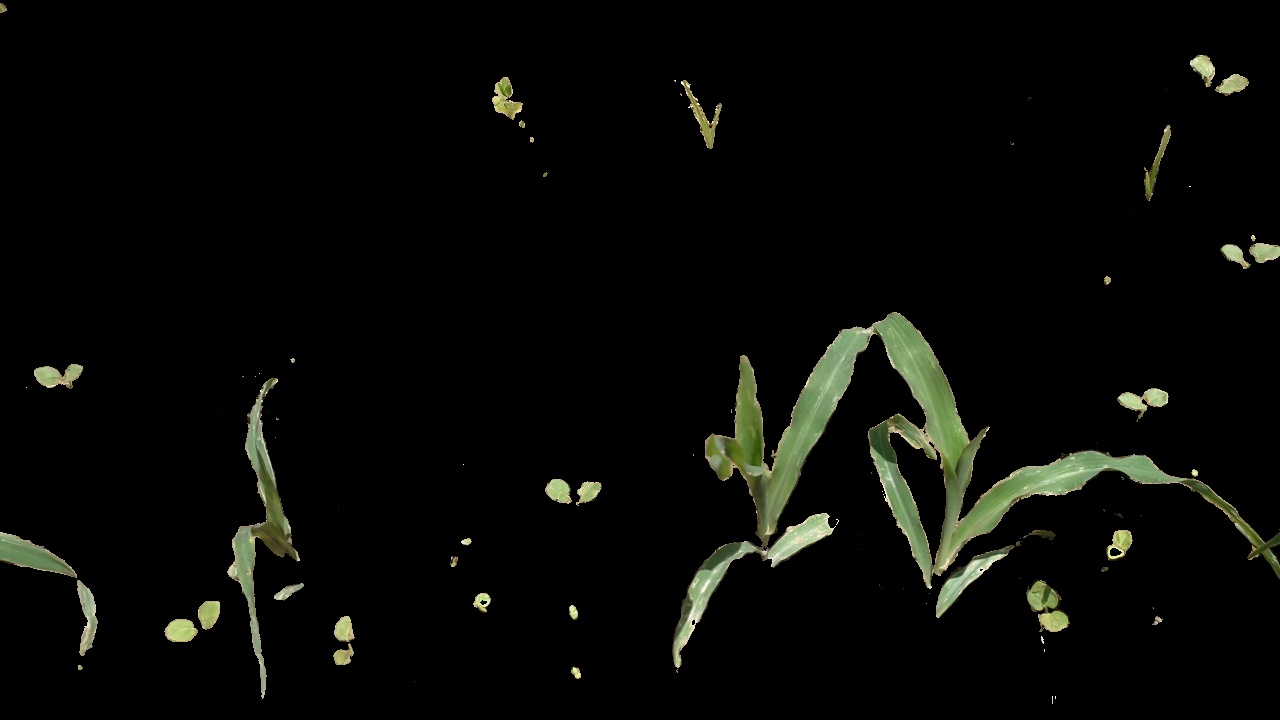crop: (872, 314, 1270, 659), (667, 307, 856, 681), (222, 353, 306, 692)
weed: (1117, 124, 1180, 213), (670, 68, 731, 149), (1185, 52, 1249, 105), (1021, 575, 1075, 631), (1215, 224, 1280, 269), (546, 468, 609, 511), (156, 604, 225, 643), (30, 356, 83, 391), (328, 617, 364, 668), (480, 74, 515, 123), (1115, 385, 1167, 416), (1106, 527, 1140, 563), (467, 584, 491, 616), (569, 662, 596, 688), (564, 603, 586, 630), (450, 536, 480, 550)
